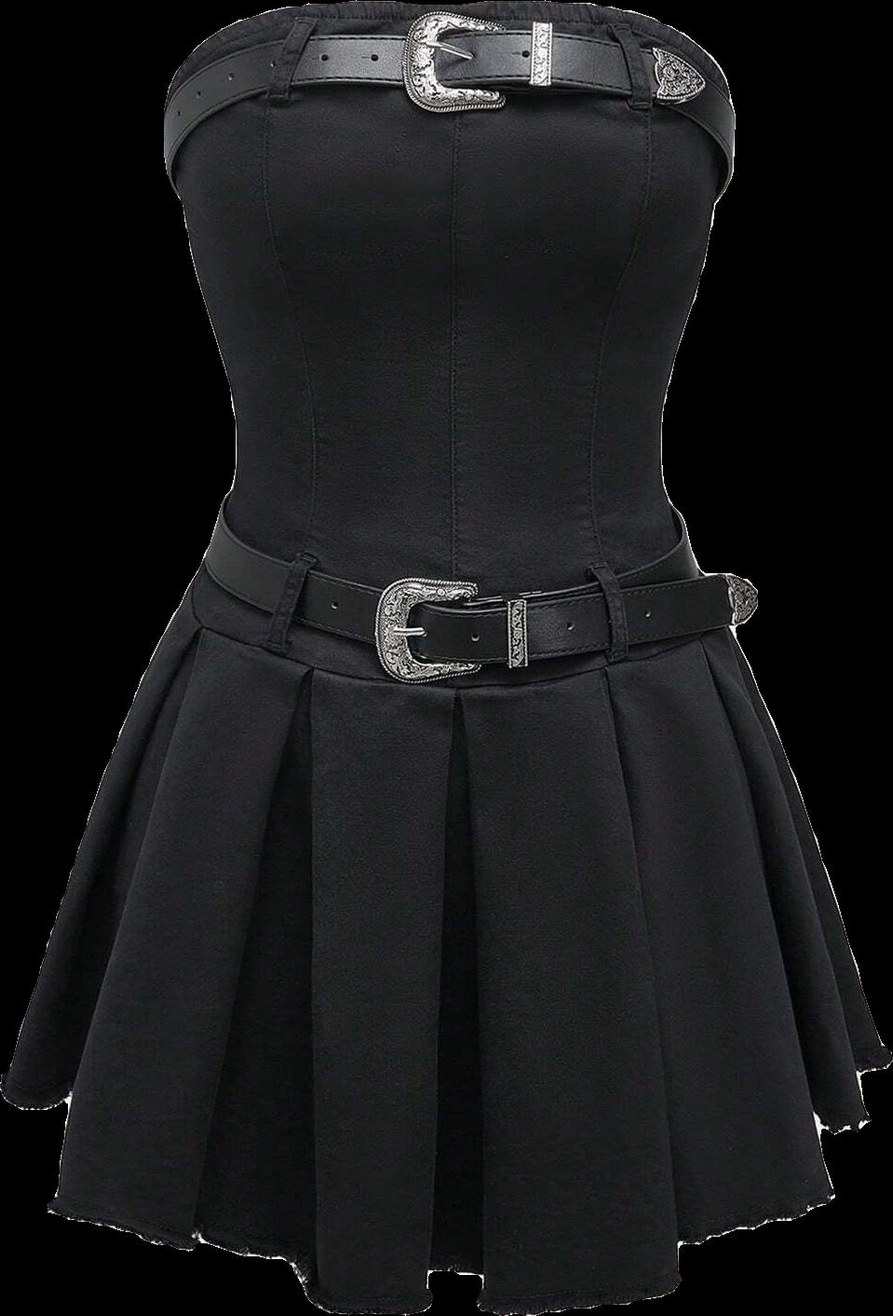Bodice: (164, 2, 736, 694)
Hemline: (0, 1054, 892, 1314)
Neckline: (161, 0, 737, 103)
Skirt: (2, 612, 892, 1314)
Waistline: (169, 599, 739, 708)
